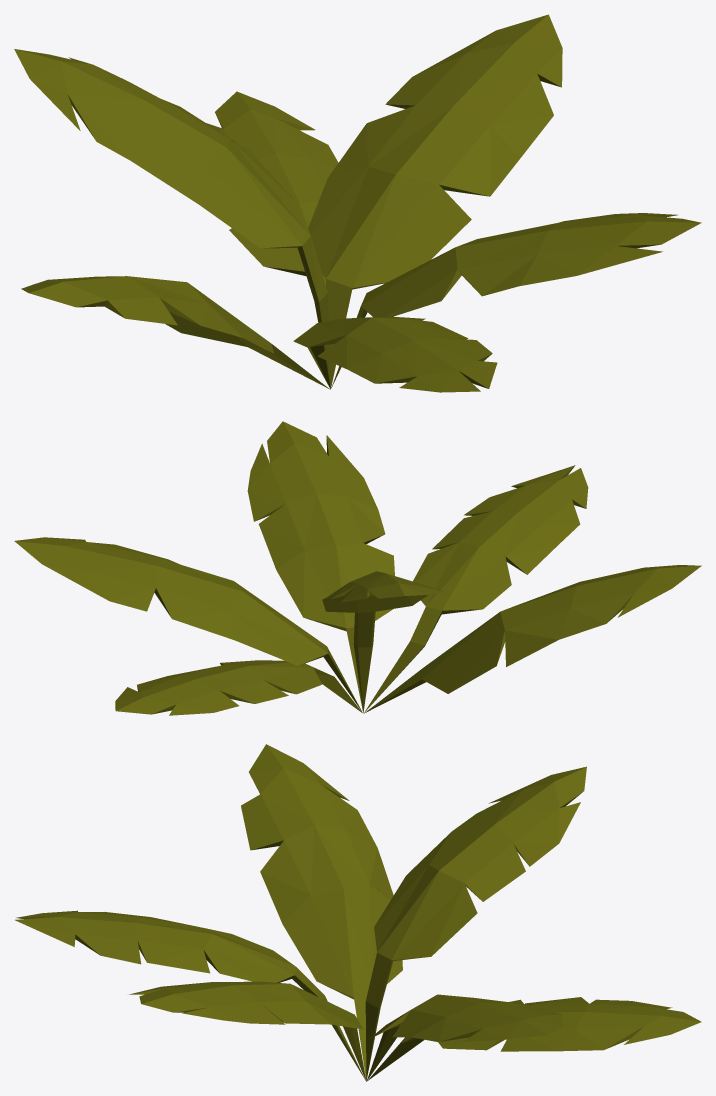
The model's file is Plant_3.fbx.
The picture shows the model from 3 angles, top to bottom: view 1: azimuth 30°, elevation 25°; view 2: azimuth 150°, elevation 25°; view 3: azimuth 270°, elevation 25°; orthographic projection. The views are drawn at different scales.
Parts seen in each view (by area): view 1: Plant_3; view 2: Plant_3; view 3: Plant_3.
Part boxes in pixels (bbox=[...]): Plant_3: bbox=[14, 14, 701, 392]; Plant_3: bbox=[14, 421, 701, 715]; Plant_3: bbox=[15, 744, 701, 1081].
Size of the model in its own units: 1.3 by 0.5203 by 1.35.
